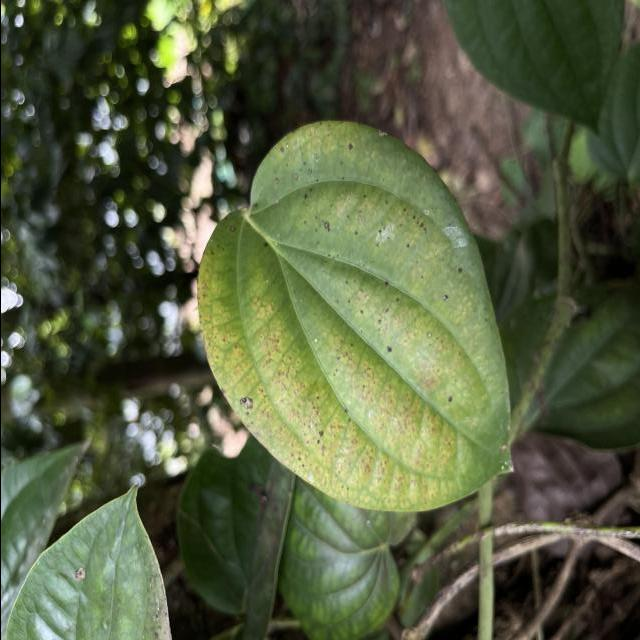Piper nigrum: (194, 118, 516, 515)
